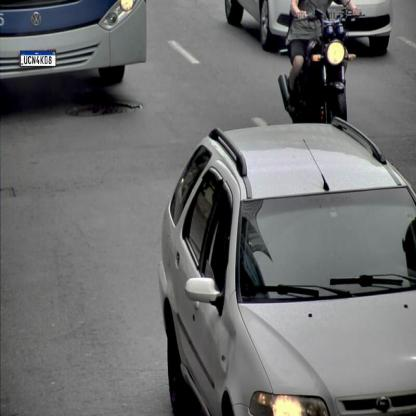PlacaM: (20, 50, 56, 66)
